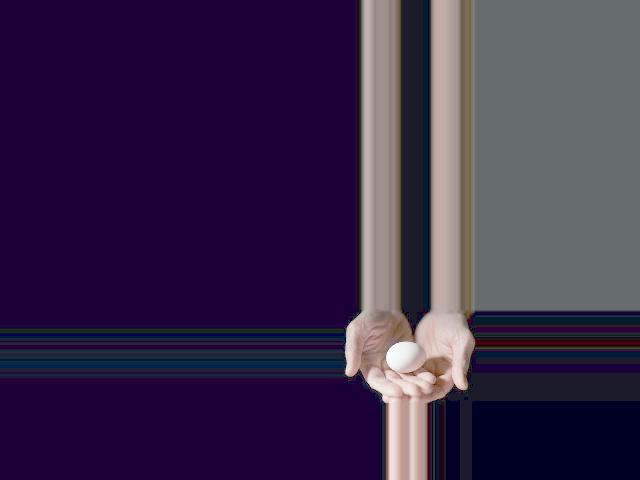egg: (385, 341, 425, 373)
